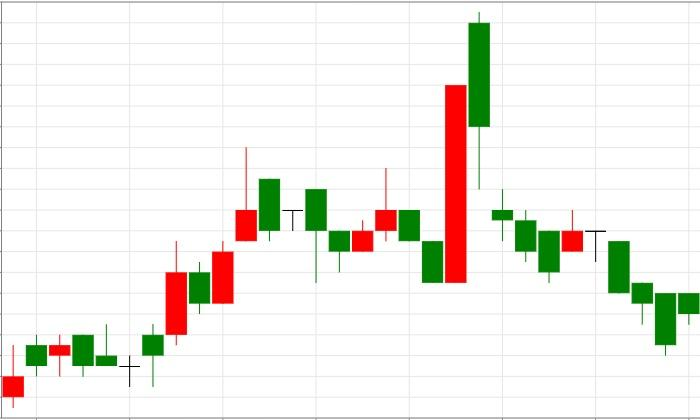bullish_engulfing_rise: (375, 84, 467, 283)
shooting_star_fall: (119, 146, 258, 387)
